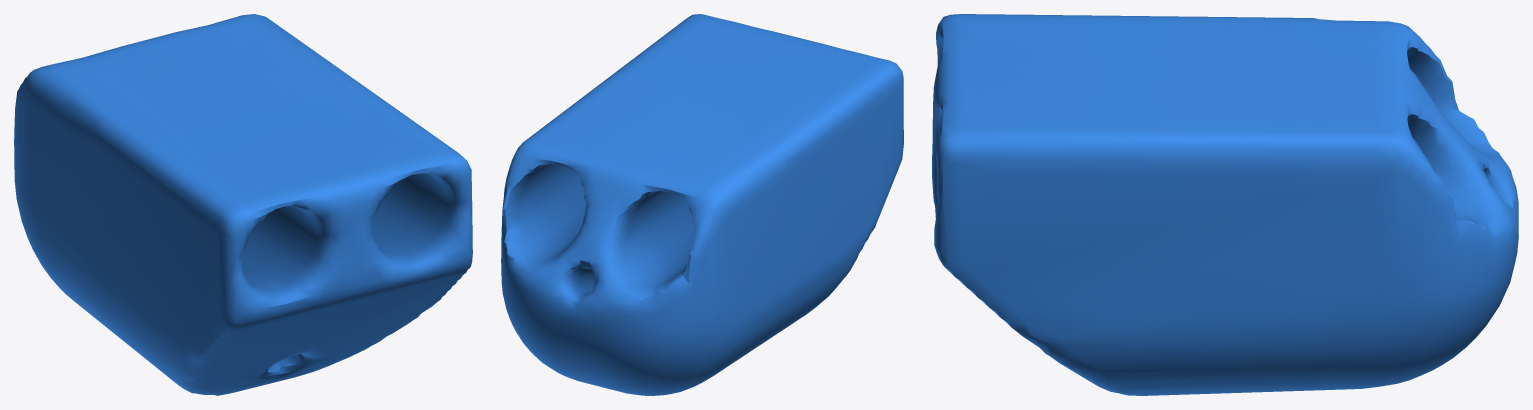
File: right_finger1_upper.obj
The picture shows the model from 3 angles, left to right: view 1: azimuth 30°, elevation 25°; view 2: azimuth 150°, elevation 25°; view 3: azimuth 270°, elevation 25°; orthographic projection. The views are drawn at different scales.
Parts seen in each view (by area): view 1: right_finger1_upper; view 2: right_finger1_upper; view 3: right_finger1_upper.
Part boxes in pixels (left/top/right/bottom): right_finger1_upper: left=14, top=14, right=472, bottom=395; right_finger1_upper: left=501, top=14, right=903, bottom=395; right_finger1_upper: left=932, top=14, right=1518, bottom=395.
Bounding box in the file's own units: 0.0099 × 0.0101 × 0.0181.
Materials: 1 (1 with a texture image).
